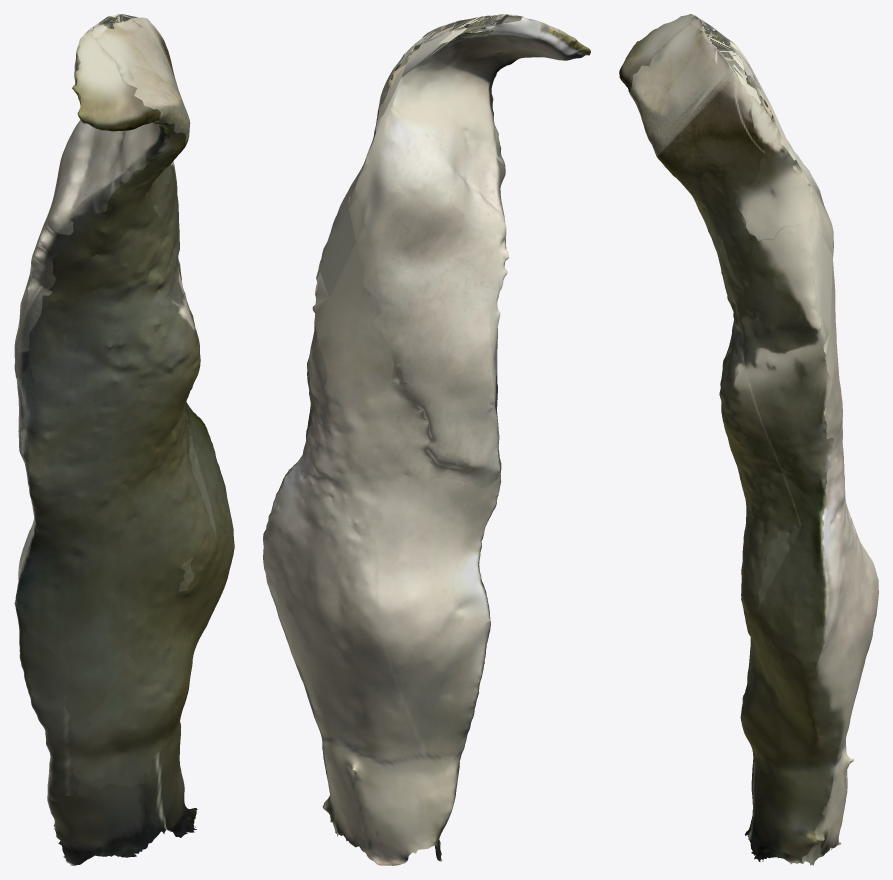
The model's file is DNA1NoLight.fbx.
The picture shows the model from 3 angles, left to right: view 1: azimuth 30°, elevation 25°; view 2: azimuth 150°, elevation 25°; view 3: azimuth 270°, elevation 25°; orthographic projection. The views are drawn at different scales.
Visible parts, largest first — view 1: mesh; view 2: mesh; view 3: mesh.
Boxes of the visible parts, bbox=[...] form: mesh: bbox=[14, 14, 234, 865]; mesh: bbox=[263, 14, 590, 865]; mesh: bbox=[619, 14, 878, 865].
Bounding box in the file's own units: 73.12 × 245 × 71.92.
1 material, 1 textured.
